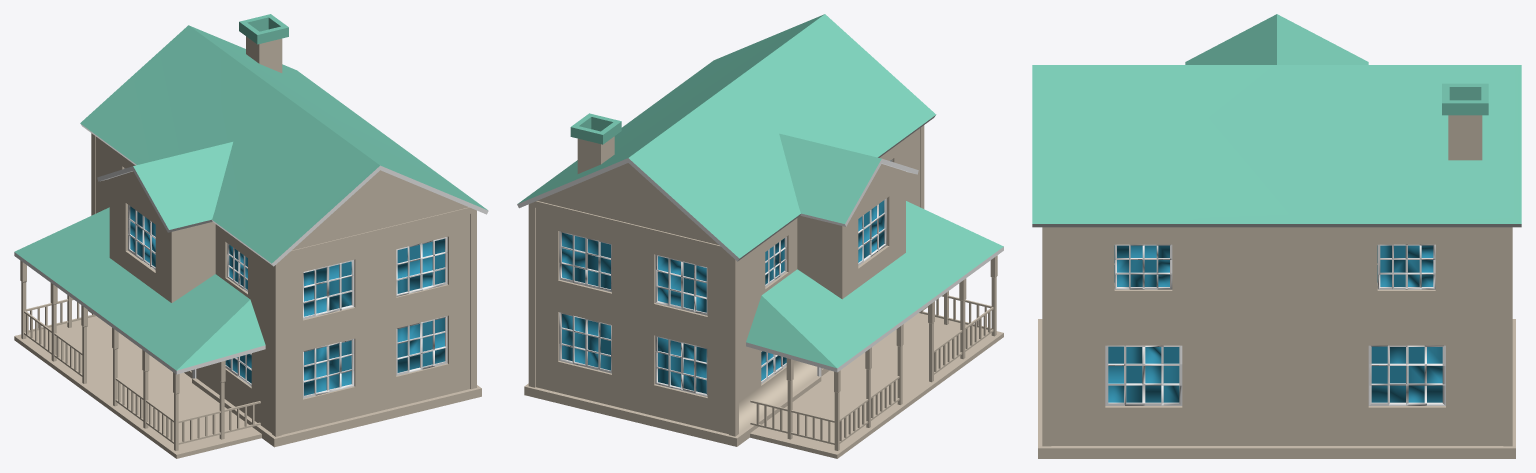
Rendered from Res1.obj.
The picture shows the model from 3 angles, left to right: view 1: azimuth 30°, elevation 25°; view 2: azimuth 150°, elevation 25°; view 3: azimuth 270°, elevation 25°; orthographic projection. The views are drawn at different scales.
Parts seen in each view (by area): view 1: House4, Windows_2_2; view 2: House4, Windows_2_2; view 3: House4, Windows_2_2.
Part boxes in pixels (<box>): House4: <box>14,14,488,458</box>; Windows_2_2: <box>124,168,447,398</box>; House4: <box>517,14,1003,458</box>; Windows_2_2: <box>559,159,892,396</box>; House4: <box>1032,14,1521,458</box>; Windows_2_2: <box>1105,244,1445,405</box>.
Bounding box in the file's own units: 45.33 × 38.11 × 50.62.
